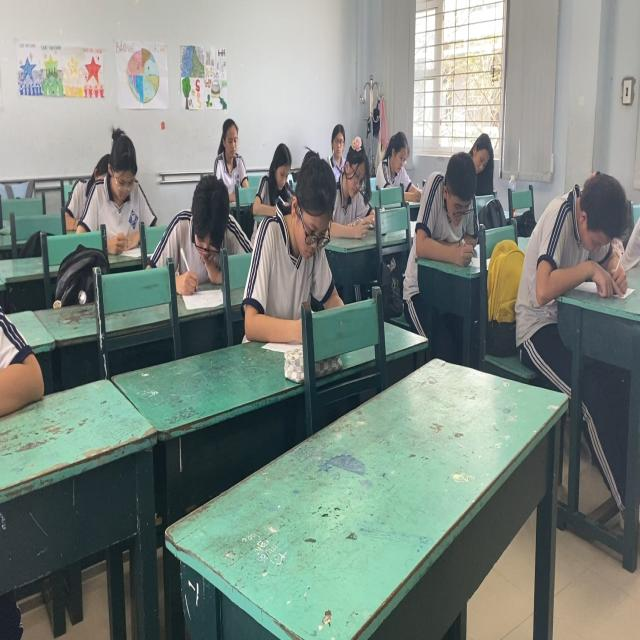not_cheating: (251, 141, 338, 332), (530, 162, 636, 307), (74, 127, 159, 262), (164, 176, 244, 282), (410, 158, 484, 263), (324, 114, 376, 234), (372, 114, 412, 192), (212, 116, 244, 182), (467, 137, 494, 190)
